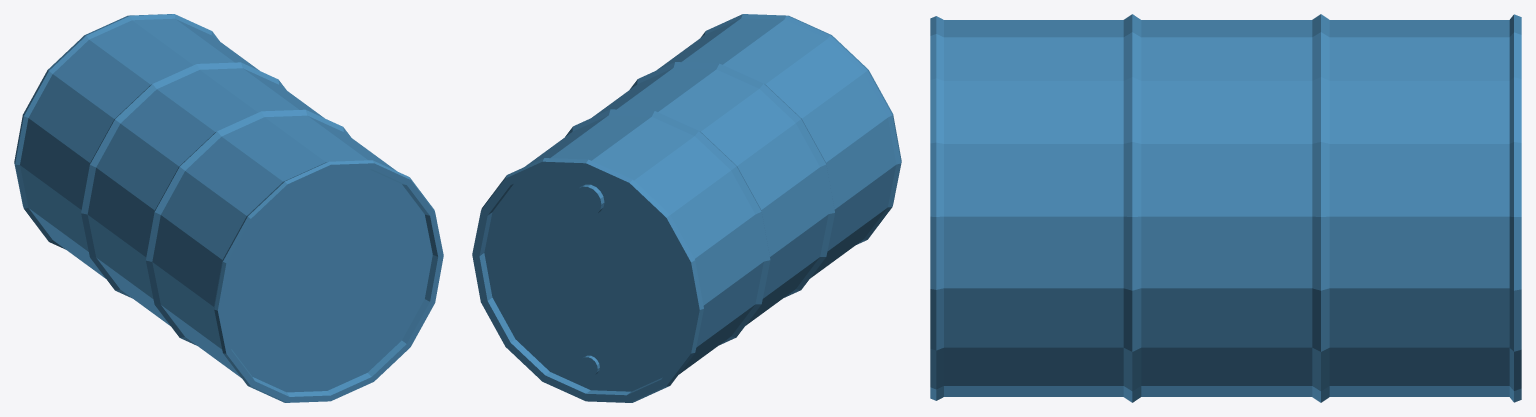
The model's file is Barrel_Blue.fbx.
3 views of the same model, side by side, from view 1: azimuth 30°, elevation 25°; view 2: azimuth 150°, elevation 25°; view 3: azimuth 270°, elevation 25° (orthographic). The views are drawn at different scales.
Visible parts, largest first — view 1: Barrel_Blue; view 2: Barrel_Blue; view 3: Barrel_Blue.
Part boxes in pixels (x1=…): Barrel_Blue: x1=14, y1=14, x2=443, y2=402; Barrel_Blue: x1=472, y1=14, x2=901, y2=402; Barrel_Blue: x1=930, y1=14, x2=1521, y2=402.
Bounding box in the file's own units: 0.8071 × 0.8071 × 1.23.
